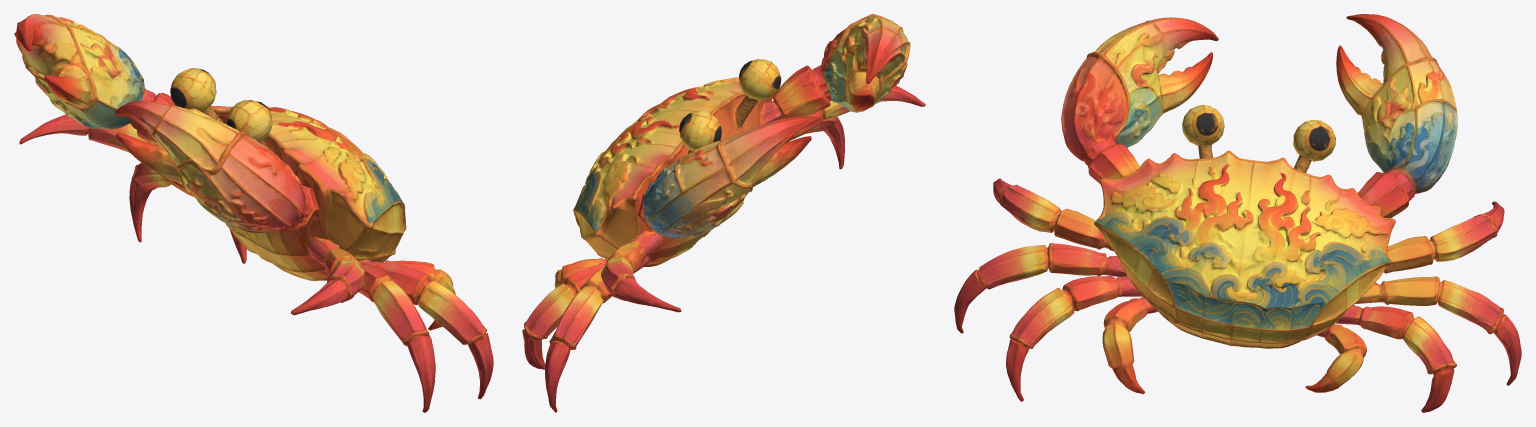
File: 金甲蟹灯50000.glb
3 renders of one model, left to right at view 1: azimuth 30°, elevation 25°; view 2: azimuth 150°, elevation 25°; view 3: azimuth 270°, elevation 25°, orthographic. The views are drawn at different scales.
Visible parts, largest first — view 1: tripo_node_009c67bc-8fe0-4d7a-9641-fc95ac72a8bc; view 2: tripo_node_009c67bc-8fe0-4d7a-9641-fc95ac72a8bc; view 3: tripo_node_009c67bc-8fe0-4d7a-9641-fc95ac72a8bc.
Part boxes in pixels (left/top/right/bottom): tripo_node_009c67bc-8fe0-4d7a-9641-fc95ac72a8bc: left=14, top=14, right=493, bottom=412; tripo_node_009c67bc-8fe0-4d7a-9641-fc95ac72a8bc: left=522, top=14, right=925, bottom=412; tripo_node_009c67bc-8fe0-4d7a-9641-fc95ac72a8bc: left=954, top=14, right=1521, bottom=412.
Bounding box in the file's own units: 0.5678 × 0.5696 × 1.
1 material, 1 textured.
